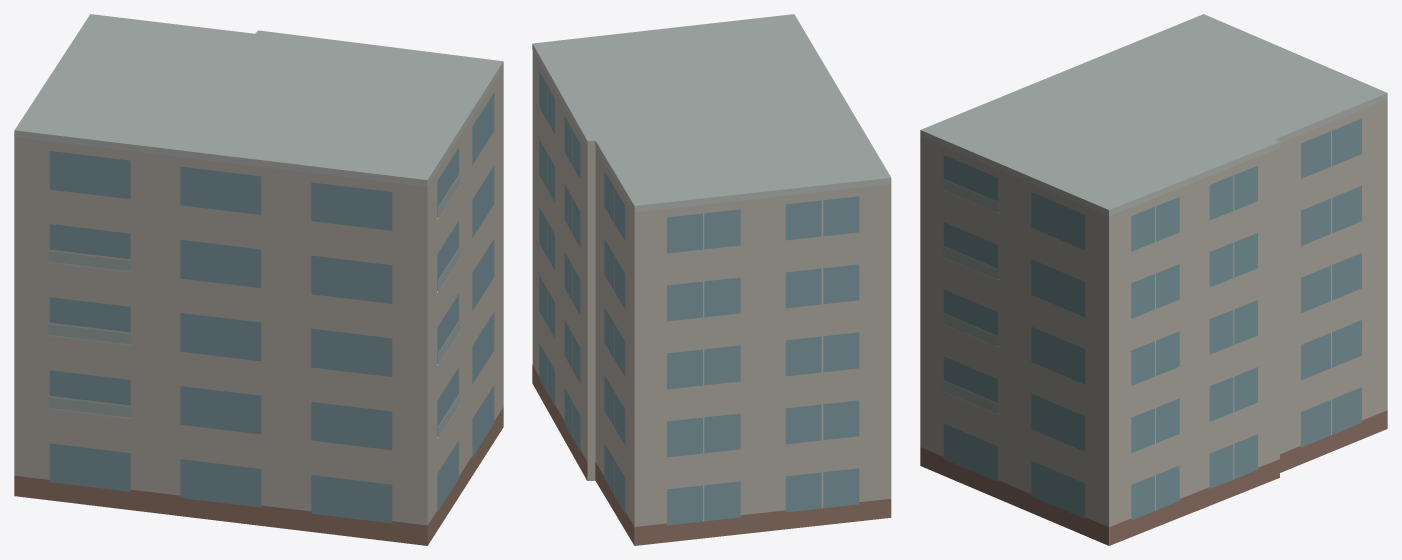
File: survey-upis-32891741.glb
3 views of the same model, side by side, from view 1: azimuth 30°, elevation 25°; view 2: azimuth 150°, elevation 25°; view 3: azimuth 270°, elevation 25° (orthographic). The views are drawn at different scales.
Visible parts, largest first — view 1: survey-upis-32891741.tmp; view 2: survey-upis-32891741.tmp; view 3: survey-upis-32891741.tmp.
Boxes of the visible parts, x1,y1,x2,y2 form: survey-upis-32891741.tmp: (14, 14, 503, 545); survey-upis-32891741.tmp: (532, 14, 891, 545); survey-upis-32891741.tmp: (920, 14, 1387, 545).
Size of the model in its own units: 16.54 by 13.2 by 16.66.
